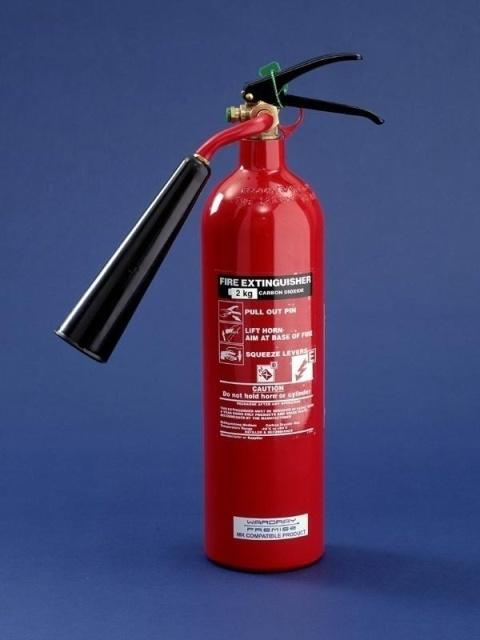APAR: (199, 52, 326, 573)
